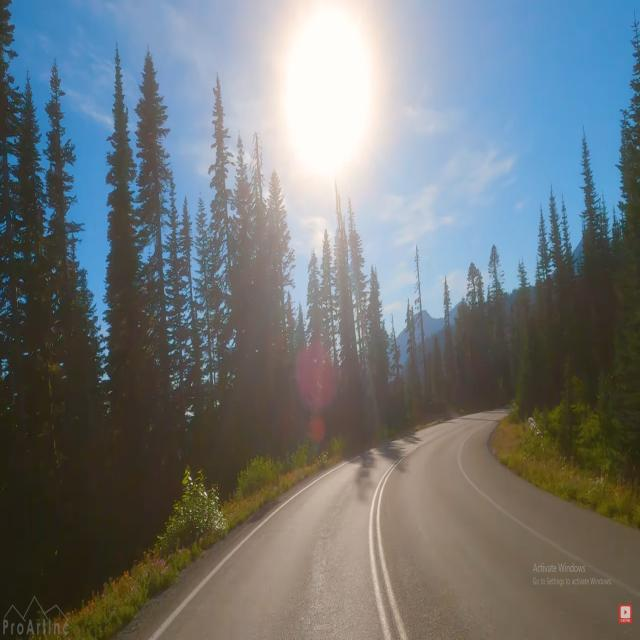sun: (260, 4, 392, 199)
